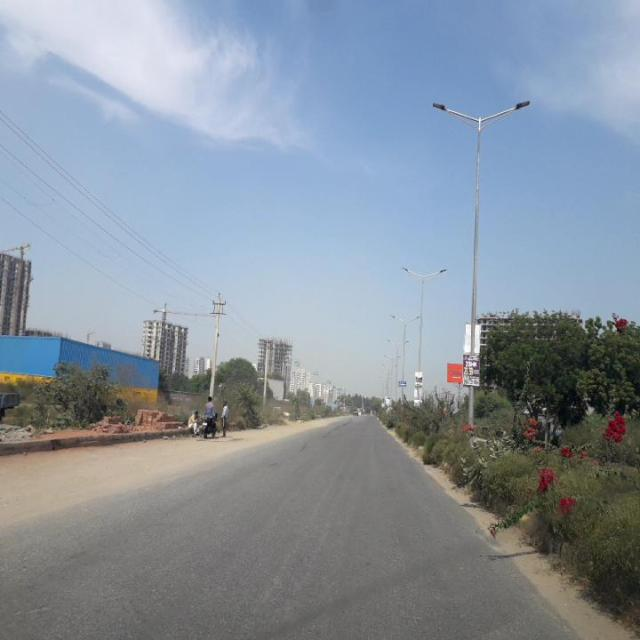D00: (252, 457, 350, 616)
